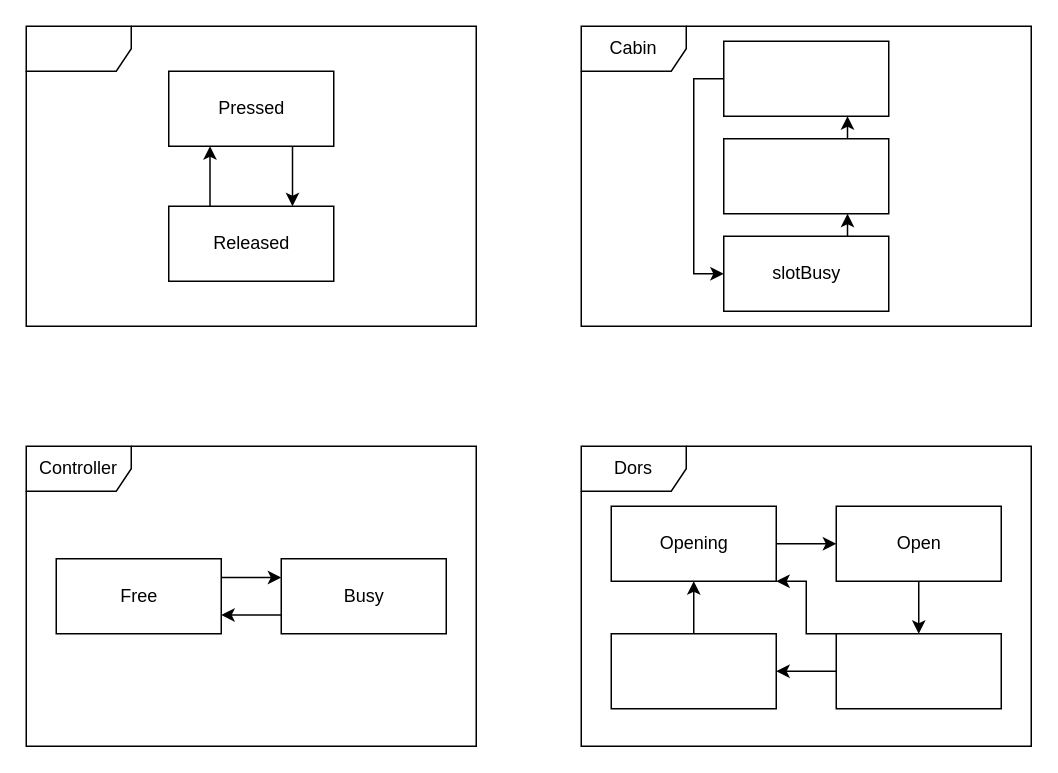
The diagram is 1058 pixels wide and 773 high, and some of its shapes have lost their labels. The shapes that lost their labels are listed below. From the top down, each one's box as (x1, y1, x2, y2) in pixels, then its label:
(722, 40, 889, 116): slotFree
(25, 25, 476, 326): Button
(722, 137, 889, 214): slotMoving
(610, 632, 776, 709): Close
(835, 632, 1001, 709): Closing
